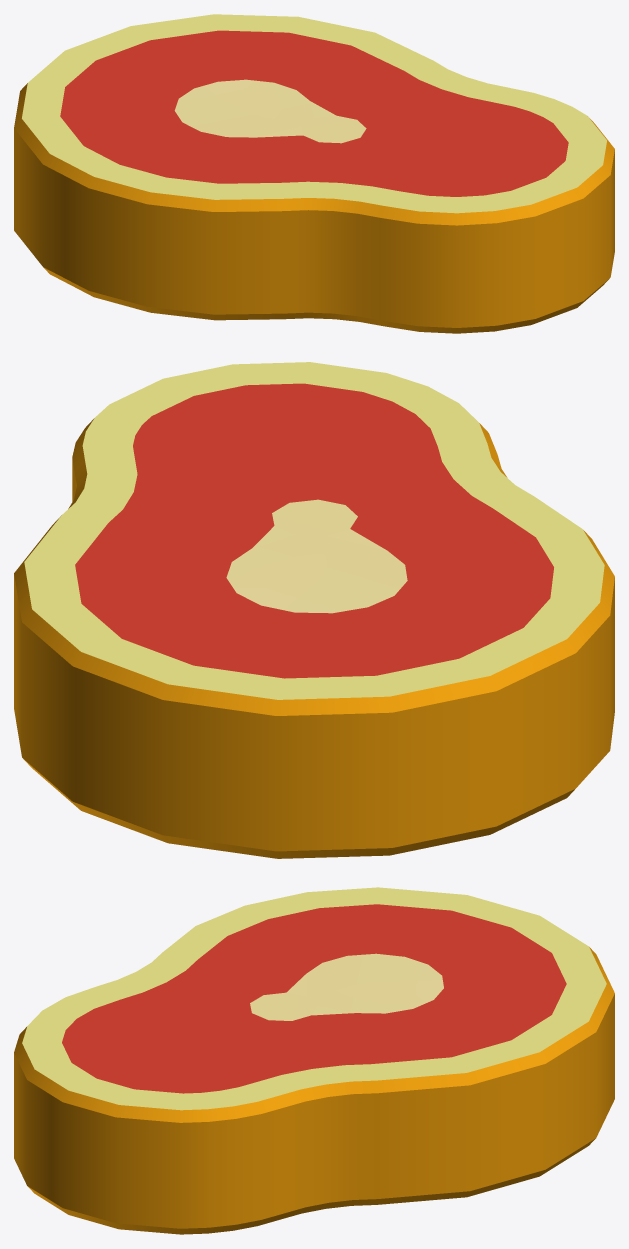
File: Resources_Meat.FBX
3 views of the same model, one above another, from view 1: azimuth 30°, elevation 25°; view 2: azimuth 150°, elevation 25°; view 3: azimuth 270°, elevation 25° (orthographic). The views are drawn at different scales.
Parts seen in each view (by area): view 1: Resources_Meat; view 2: Resources_Meat; view 3: Resources_Meat.
Part boxes in pixels (box(x1,y1,x2,y2)): Resources_Meat: box(14, 14, 614, 333); Resources_Meat: box(14, 362, 614, 858); Resources_Meat: box(14, 887, 614, 1234).
Bounding box in the file's own units: 149 × 37.73 × 165.
Materials: 1 (1 with a texture image).
